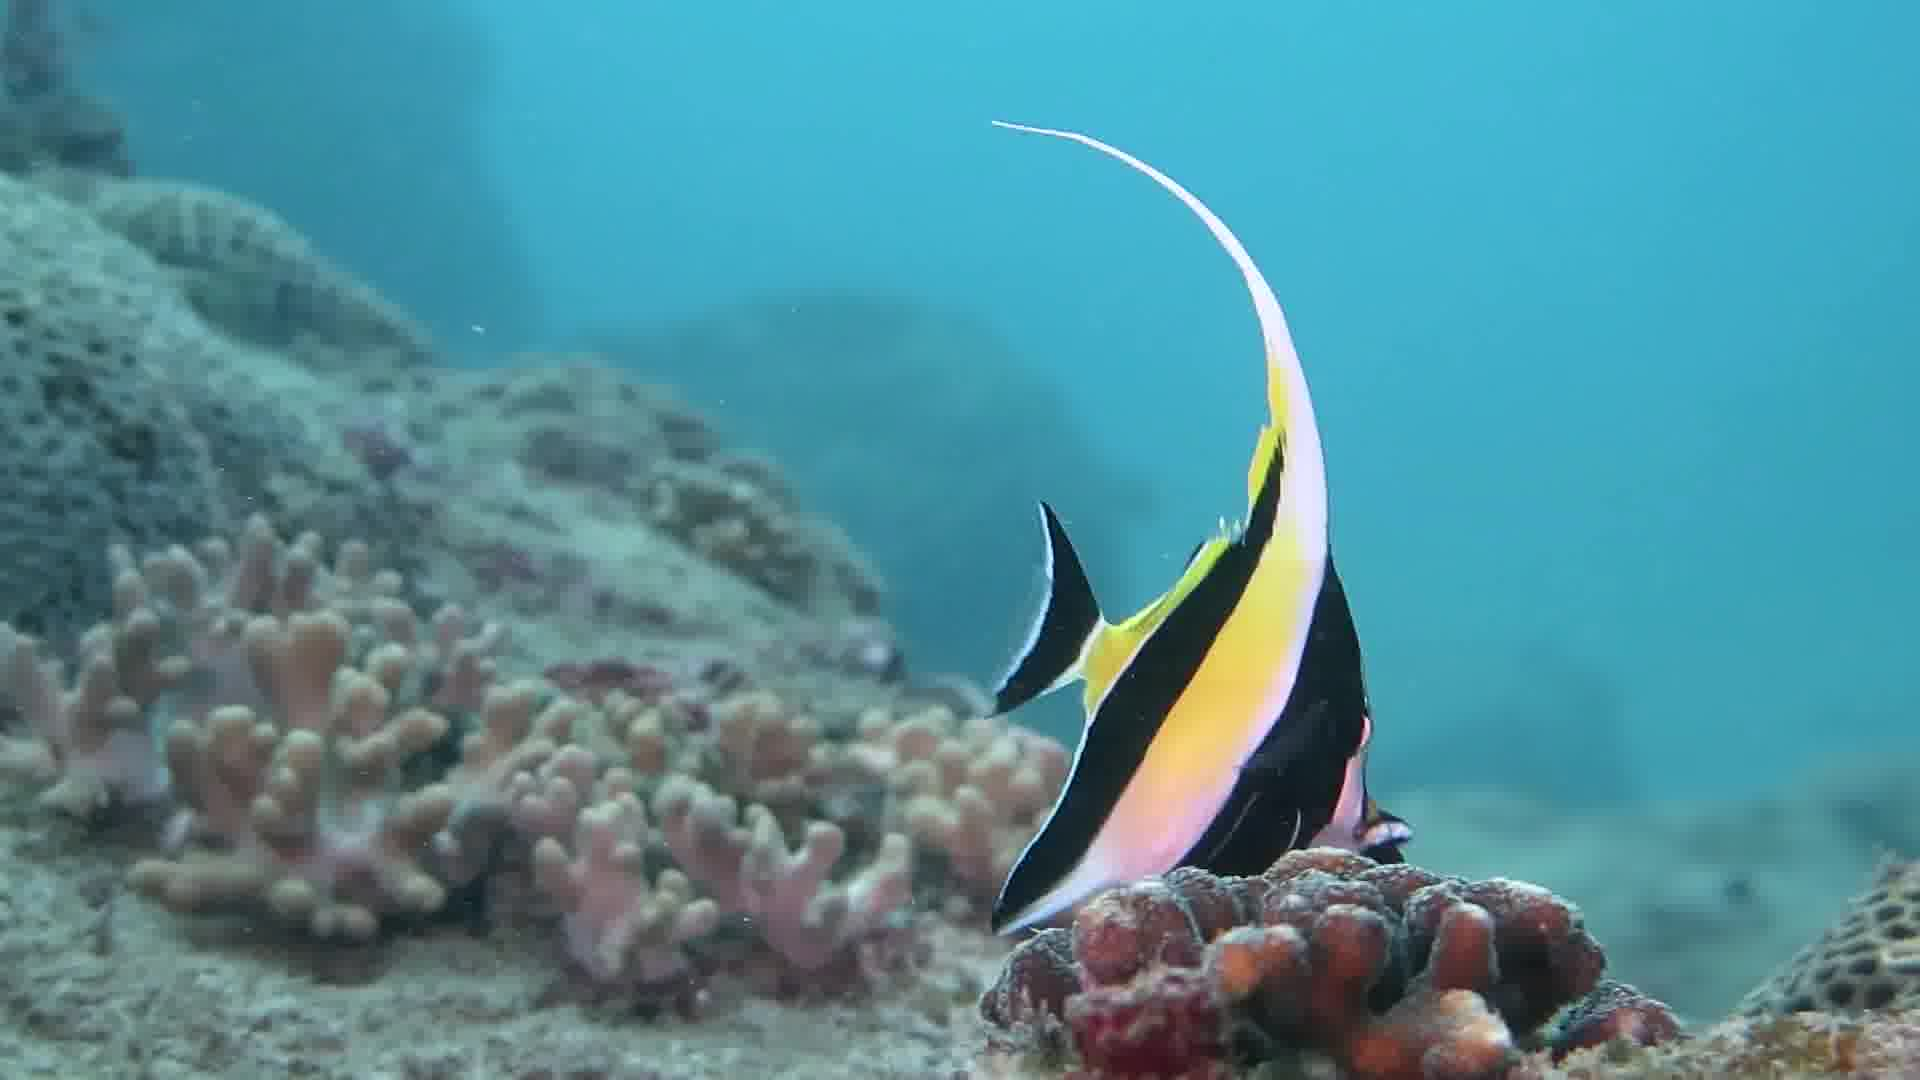Zanclus cornutus: (924, 229, 1418, 971)
